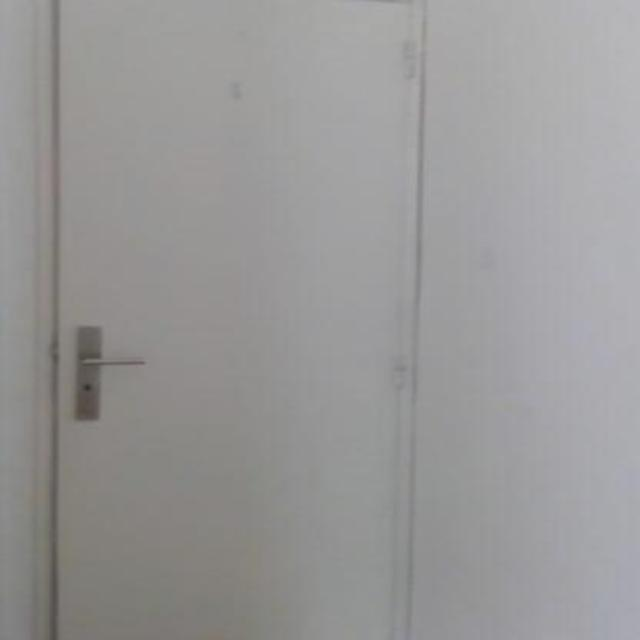door: (49, 0, 423, 638)
